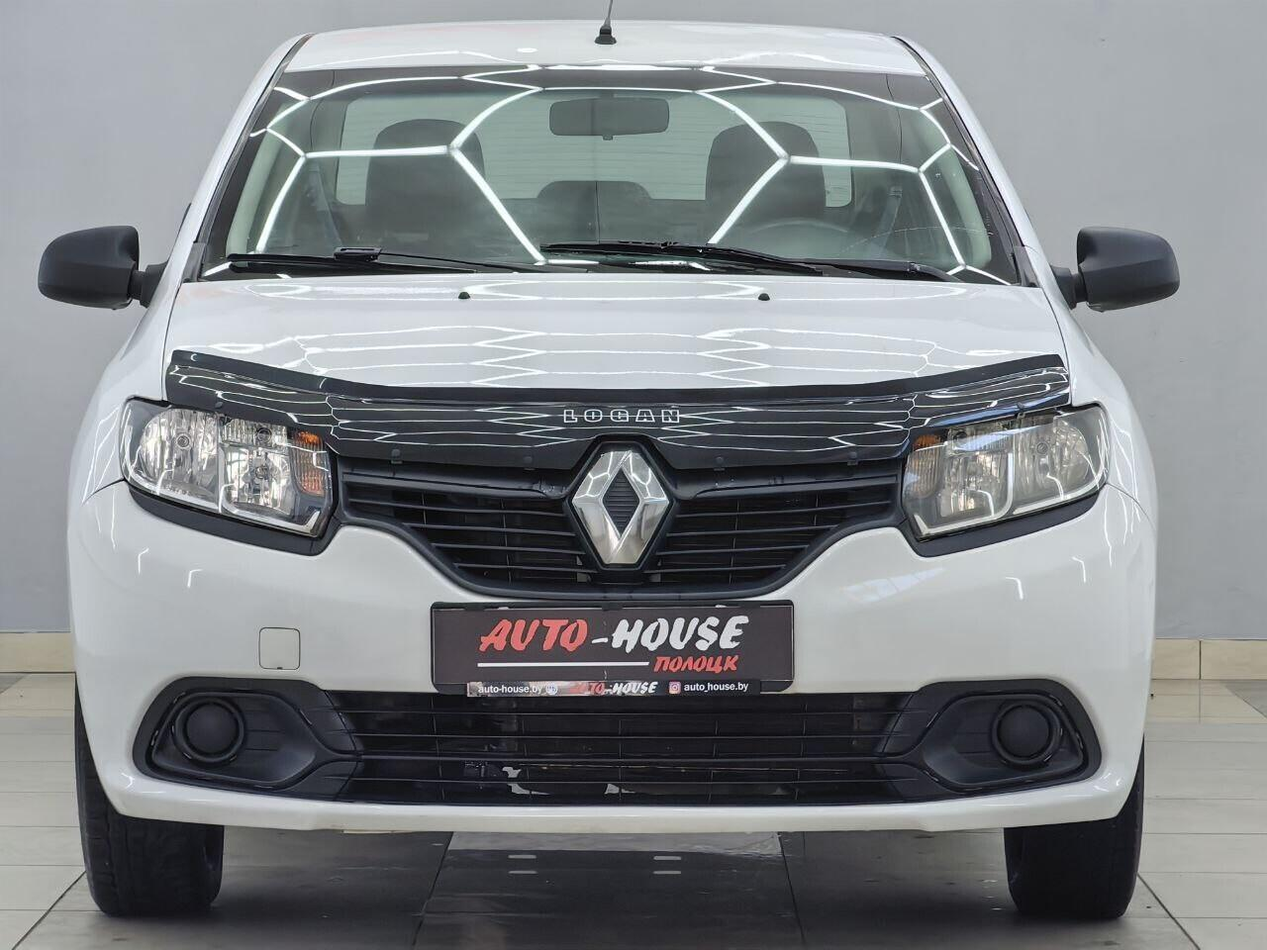Logan_2013-2018: (53, 17, 1184, 950)
